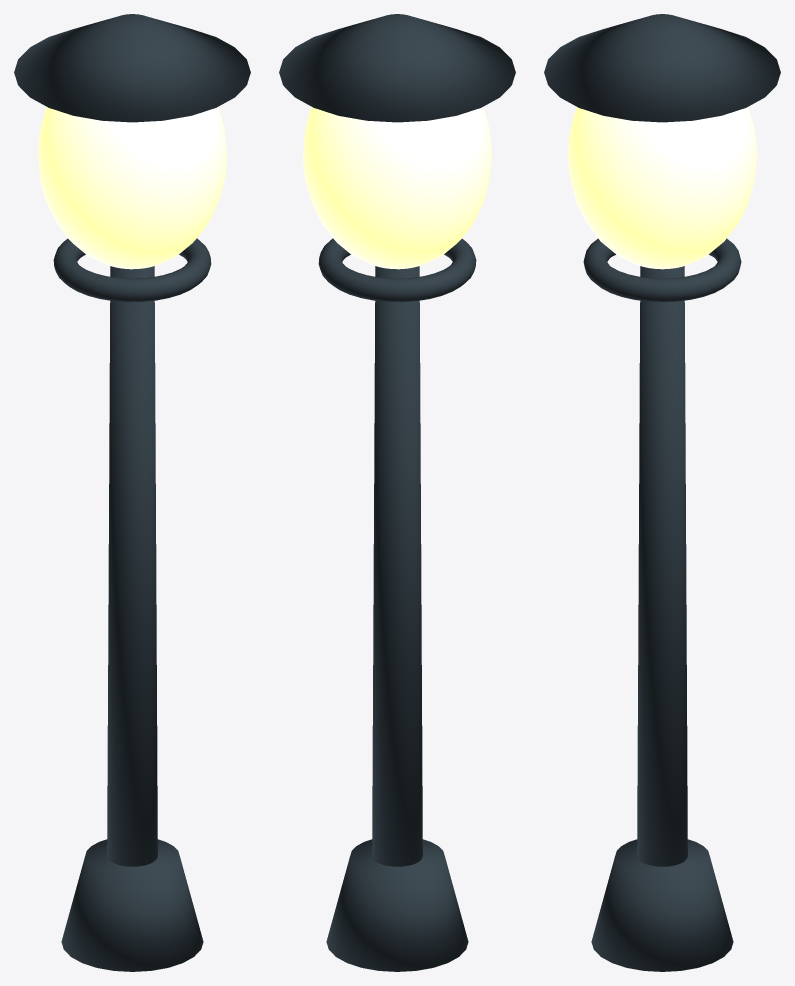
File: lamp.glb
3 renders of one model, left to right at view 1: azimuth 30°, elevation 25°; view 2: azimuth 150°, elevation 25°; view 3: azimuth 270°, elevation 25°, orthographic.
Visible parts, largest first — view 1: lamp; view 2: lamp; view 3: lamp.
Boxes of the visible parts, <box> form: lamp: <box>14,14,250,971</box>; lamp: <box>279,14,515,971</box>; lamp: <box>544,14,780,971</box>.
Bounding box in the file's own units: 0.6 × 2.57 × 0.6.
